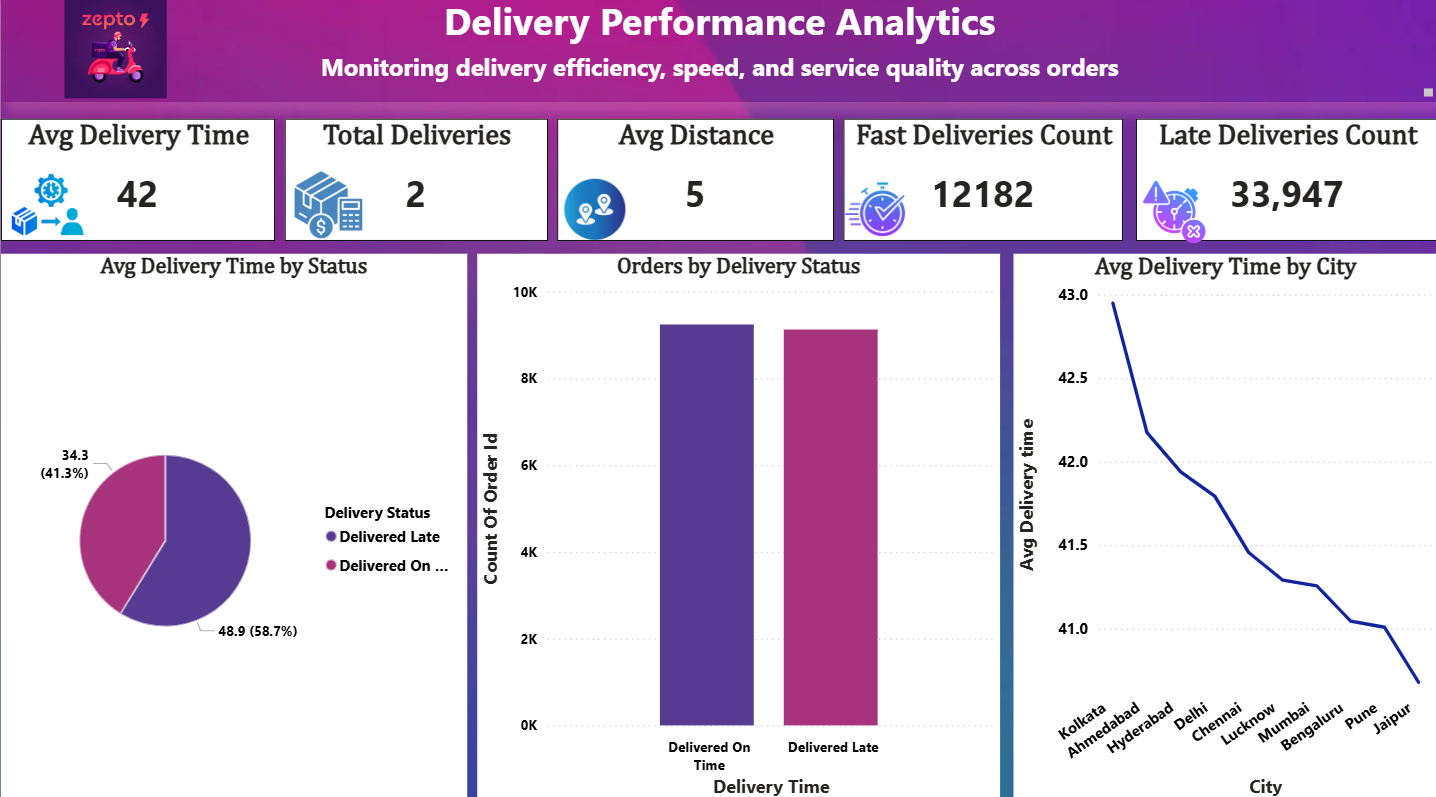

The dashboard page shown, as its layout file describes it:
{"tool":"powerbi","page":{"name":"delivery performance","canvas":[1280,720],"ordinal":2},"visuals":[{"type":"textbox","title":"Delivery Performance Analytics","box":[0,0,1280,95.3],"z":0},{"type":"card","title":"Avg Delivery Time","fields":{"Values":["zepto vw_delivery_performance.Avg Delivert"]},"box":[0,109.9,244,108.7],"z":1000},{"type":"card","title":"Avg Distance","fields":{"Values":["Avg(zepto vw_delivery_performance.avg_distance)"]},"box":[495.2,109.9,246.4,108.7],"z":2000},{"type":"card","title":"Total Deliveries","fields":{"Values":["zepto vw_delivery_performance.Total Deliveries"]},"box":[252.4,109.9,234.3,108.7],"z":3000},{"type":"card","title":"Late Deliveries Count","fields":{"Values":["zepto vw_delivery_performance.Late Deliveries"]},"box":[1010.9,109.9,269.3,108.7],"z":4000},{"type":"card","title":"Fast Deliveries Count","fields":{"Values":["zepto vw_delivery_performance.Fast Deliveries"]},"box":[750,109.9,248.8,108.7],"z":5000},{"type":"pieChart","title":"Avg Delivery Time by Status","fields":{"Category":["zepto vw_delivery_performance.delivery_status"],"Y":["zepto vw_delivery_performance.Avg Delivery time"]},"box":[0,230.4,415,488.6],"z":6000},{"type":"columnChart","title":"Orders by Delivery Status","fields":{"Category":["zepto vw_delivery_performance.delivery_status"],"Y":["Count(zepto vw_order_details.order_id)"]},"box":[424.7,230.4,465.7,489.8],"z":7000},{"type":"lineChart","title":"Avg Delivery Time by City","fields":{"Category":["zepto vw_order_details.city"],"Y":["zepto vw_delivery_performance.Avg Delivery time"]},"box":[902.2,230.7,378,489.2],"z":8000},{"type":"image","box":[0,154.4,83.2,63.9],"z":9000},{"type":"image","box":[225.6,154.4,131.5,63.9],"z":10000},{"type":"image","box":[486.2,164.1,84.5,54.3],"z":11000},{"type":"image","box":[740.8,164.1,76,54.3],"z":12000},{"type":"image","box":[998.9,164.1,92.9,59.1],"z":13000},{"type":"image","box":[15.7,0,172.5,91.7],"z":14000}]}

Visuals, with their boxes in screenshot pixels (x1, y1, x2, y2), scaled from the page's 1280x720 canvas onto the 1436x797 screenshot:
"Delivery Performance Analytics" textbox: box=[0, 0, 1435, 105]
"Avg Delivery Time" card: box=[0, 122, 274, 242]
"Avg Distance" card: box=[556, 122, 832, 242]
"Total Deliveries" card: box=[283, 122, 546, 242]
"Late Deliveries Count" card: box=[1134, 122, 1435, 242]
"Fast Deliveries Count" card: box=[841, 122, 1121, 242]
"Avg Delivery Time by Status" pieChart: box=[0, 255, 466, 796]
"Orders by Delivery Status" columnChart: box=[476, 255, 999, 796]
"Avg Delivery Time by City" lineChart: box=[1012, 255, 1435, 796]
image: box=[0, 171, 93, 242]
image: box=[253, 171, 401, 242]
image: box=[545, 182, 640, 242]
image: box=[831, 182, 916, 242]
image: box=[1121, 182, 1225, 247]
image: box=[18, 0, 211, 102]
